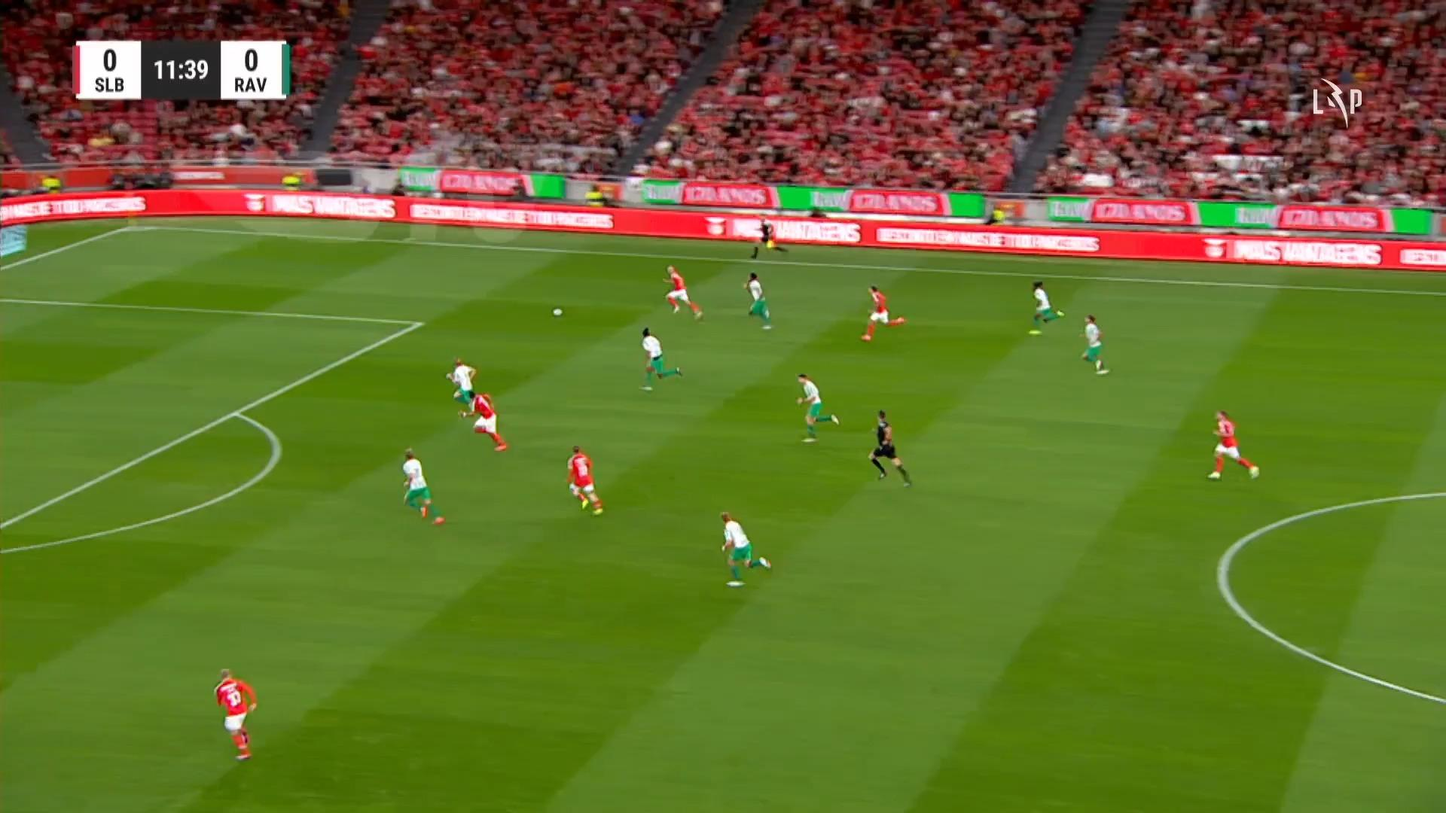ball: (552, 308, 563, 316)
player: (213, 668, 258, 760), (718, 510, 771, 586), (1206, 409, 1259, 480), (400, 446, 445, 525), (795, 372, 839, 443), (458, 391, 508, 451), (639, 326, 682, 391), (859, 283, 905, 342), (566, 444, 603, 516), (661, 264, 703, 321), (1027, 280, 1064, 335), (445, 356, 477, 418), (743, 271, 773, 330), (1080, 313, 1109, 374)
referee: (868, 409, 912, 487), (749, 214, 788, 259)
